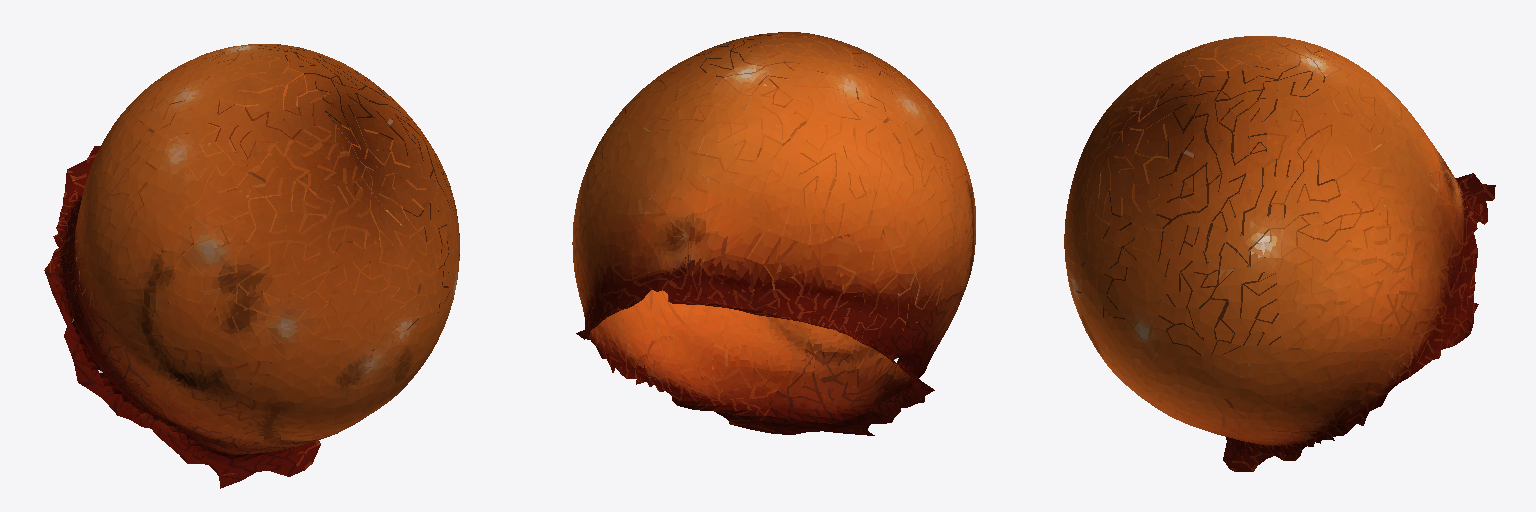
The picture shows the model from 3 angles: view 1: azimuth 30°, elevation 25°; view 2: azimuth 150°, elevation 25°; view 3: azimuth 270°, elevation 25°; orthographic projection.
Size of the model in its own units: 71.74 by 80 by 77.53.
2 materials, 1 textured.